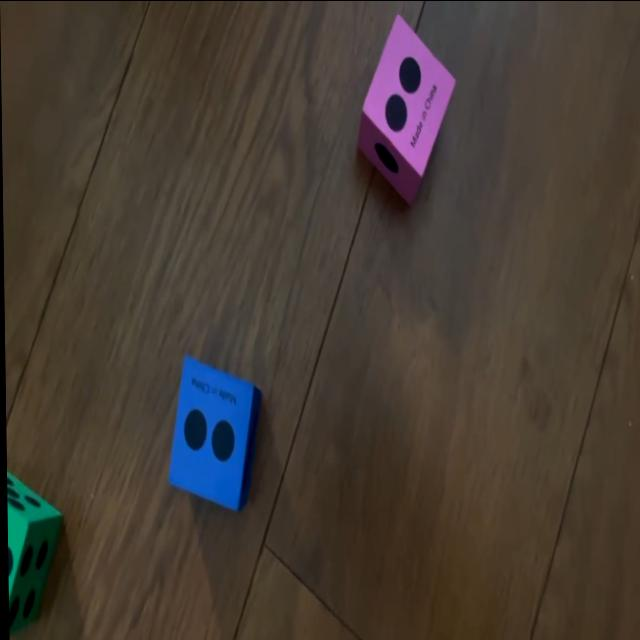blue_block: (167, 357, 261, 511)
